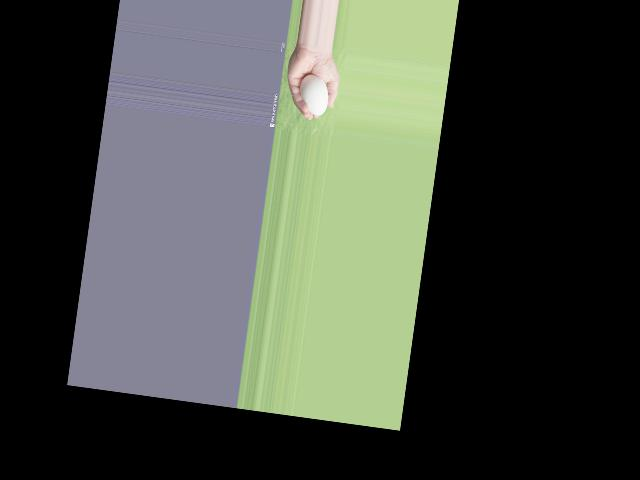egg: (295, 72, 331, 116)
